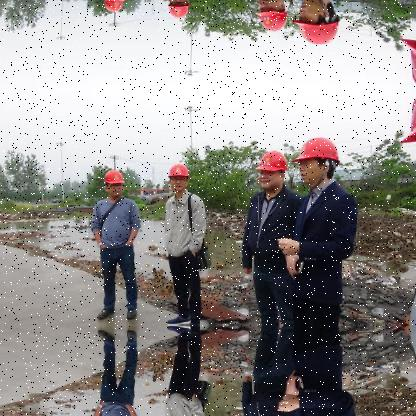helmet: (298, 134, 342, 184), (297, 0, 342, 45), (256, 147, 291, 190), (256, 0, 292, 32), (167, 158, 194, 192), (104, 167, 129, 195), (167, 0, 195, 21), (104, 0, 130, 12)
